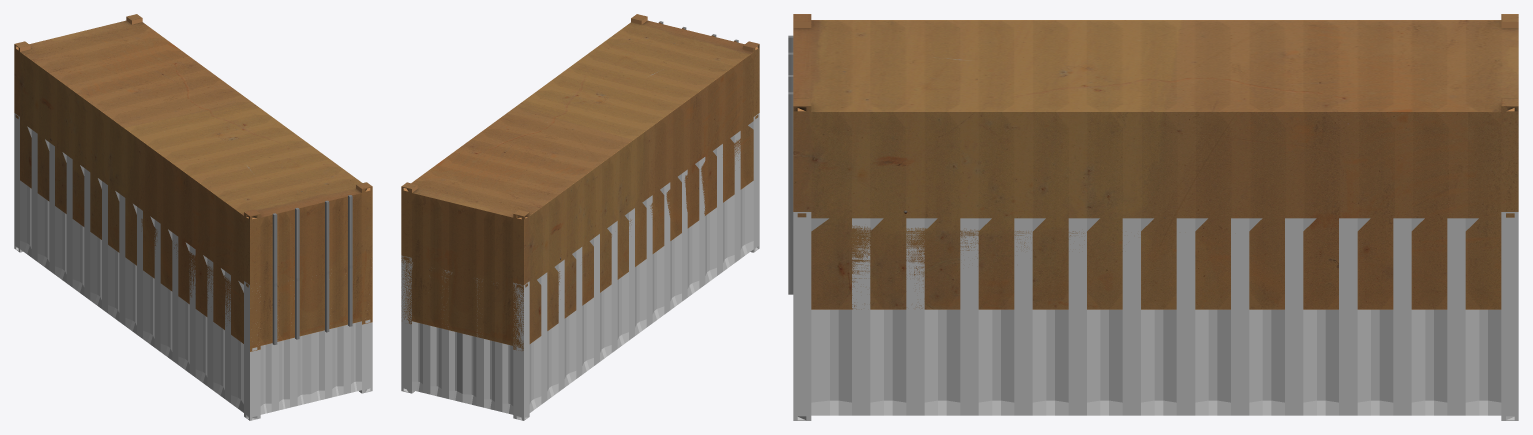
File: kontti.fbx
3 renders of one model, left to right at view 1: azimuth 30°, elevation 25°; view 2: azimuth 150°, elevation 25°; view 3: azimuth 270°, elevation 25°, orthographic. The views are drawn at different scales.
Visible parts, largest first — view 1: Kontti, KonttiUV; view 2: Kontti, KonttiUV; view 3: Kontti, KonttiUV.
Part boxes in pixels (x1,y1,x2,y2): Kontti: (14,14,372,351); KonttiUV: (14,113,372,420); Kontti: (401,14,759,350); KonttiUV: (401,113,759,420); Kontti: (788,14,1518,309); KonttiUV: (793,212,1518,420).
Bounding box in the file's own units: 4.47 × 7.13 × 14.98.
